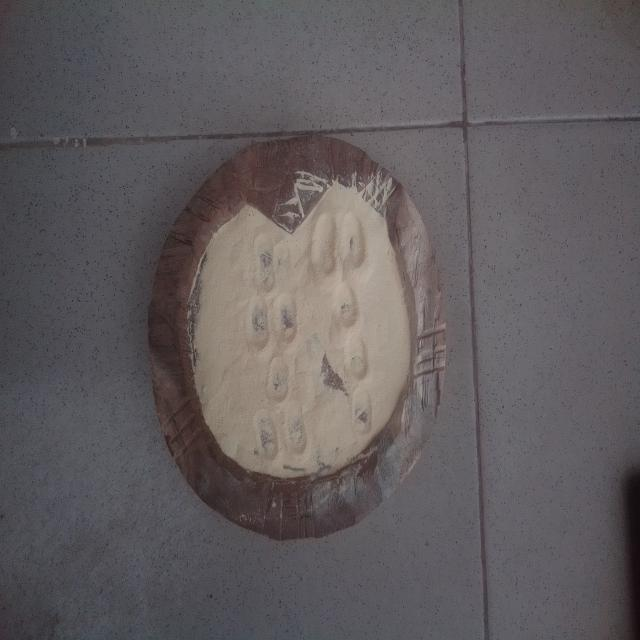double: (308, 212, 368, 278), (242, 290, 302, 352), (253, 400, 307, 463)
single: (250, 230, 280, 294), (344, 333, 372, 384), (264, 354, 292, 404), (332, 278, 359, 328), (349, 385, 374, 438)
